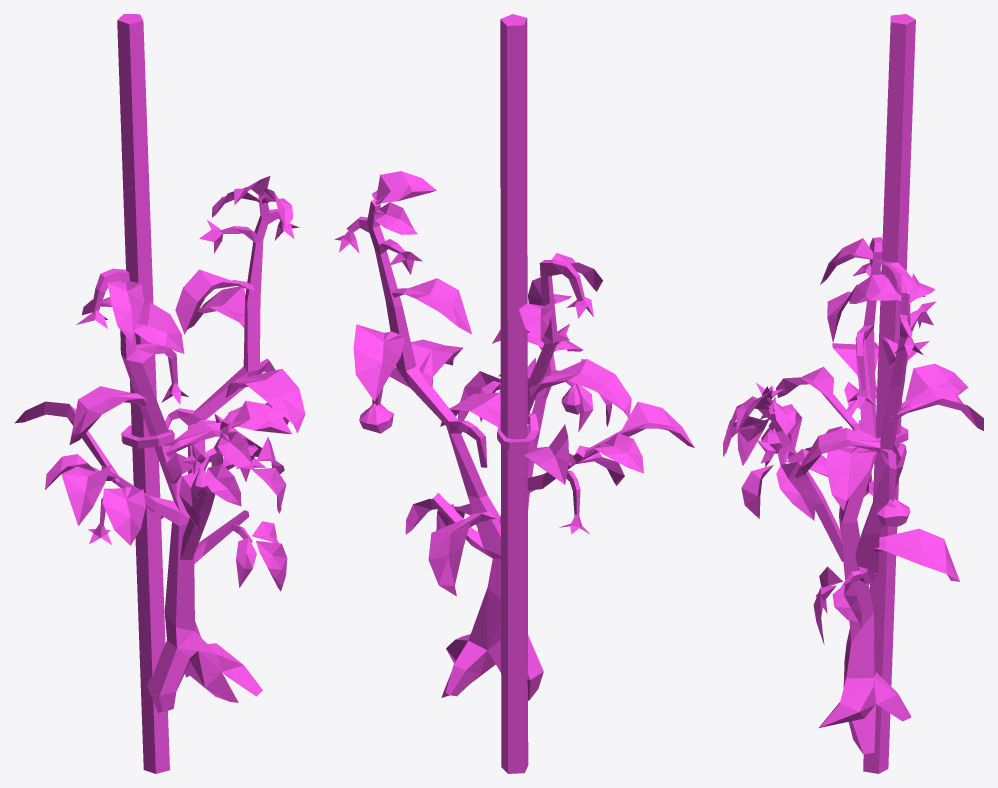
The model's file is SM_Bellpepper_Mature.fbx.
3 views of the same model, side by side, from view 1: azimuth 30°, elevation 25°; view 2: azimuth 150°, elevation 25°; view 3: azimuth 270°, elevation 25° (orthographic). The views are drawn at different scales.
Visible parts, largest first — view 1: SM_Bellpepper_Mature; view 2: SM_Bellpepper_Mature; view 3: SM_Bellpepper_Mature.
Part boxes in pixels (x1,y1,x2,y2): SM_Bellpepper_Mature: [15, 14, 305, 773]; SM_Bellpepper_Mature: [334, 14, 694, 773]; SM_Bellpepper_Mature: [723, 14, 983, 773].
Bounding box in the file's own units: 0.834 × 2.07 × 0.6569.
